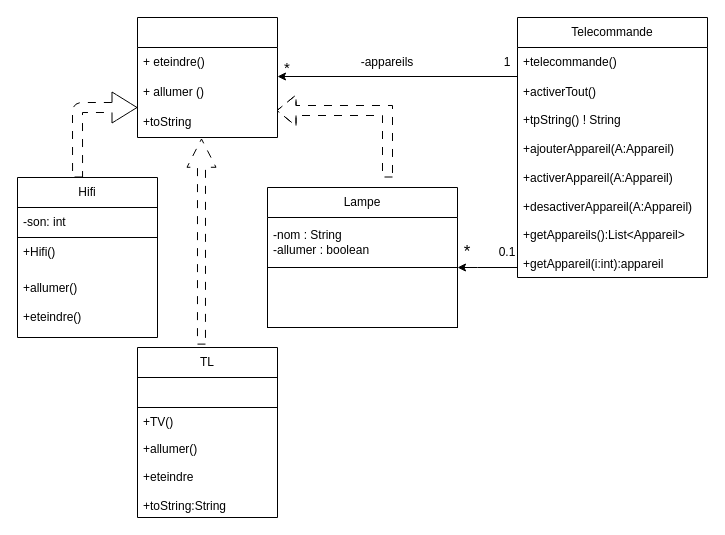
The diagram is 725 pixels wide and 535 high, and some of its shapes have lost their labels. Here are the shapes that lost their labels. From the top down, the box of each, then its label:
(136, 16, 278, 138): Appareil
(266, 266, 458, 328): +Lampe(nom:String) +allumer()<- +eteindre() +toString():String
(136, 376, 278, 408): -nom -son
